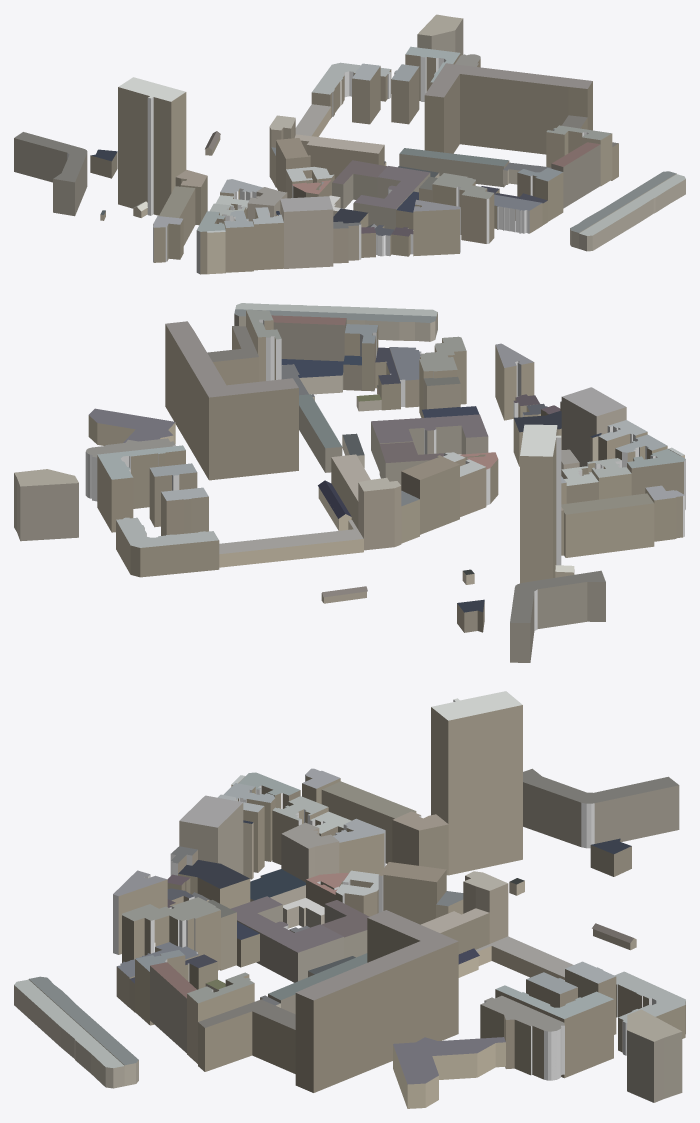
3 views of the same model, one above another, from view 1: azimuth 30°, elevation 25°; view 2: azimuth 150°, elevation 25°; view 3: azimuth 270°, elevation 25° (orthographic). The views are drawn at different scales.
Parts seen in each view (by area): view 1: tuile; view 2: tuile; view 3: tuile.
Part boxes in pixels (x1,y1,x2,y2): tuile: [14, 14, 685, 274]; tuile: [14, 303, 685, 662]; tuile: [14, 691, 685, 1108].
Size of the model in its own units: 290 by 71.24 by 266.
